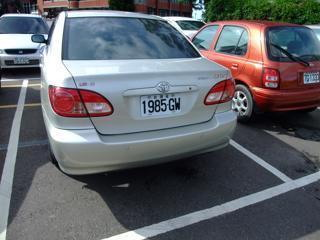plate: (138, 94, 182, 115)
